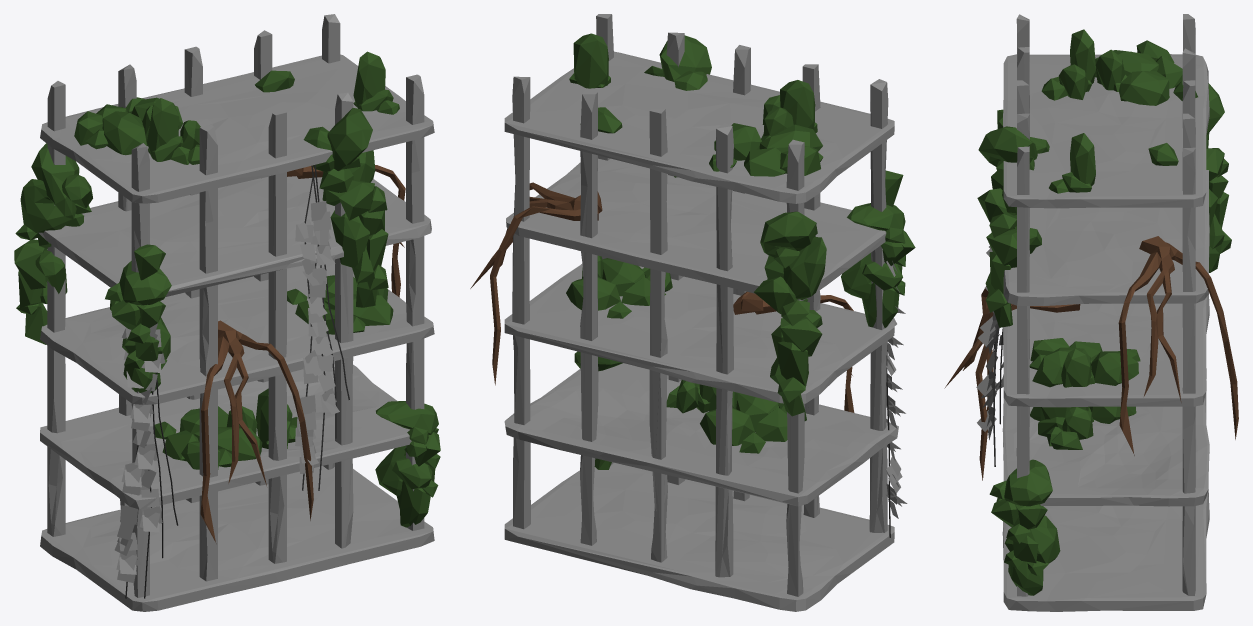
The model's file is SM_building_overgrown_03.fbx.
3 renders of one model, left to right at view 1: azimuth 30°, elevation 25°; view 2: azimuth 150°, elevation 25°; view 3: azimuth 270°, elevation 25°, orthographic.
Visible parts, largest first — view 1: Object14227; view 2: Object14227; view 3: Object14227.
Boxes of the visible parts, x1,y1,x2,y2 form: Object14227: (14, 14, 440, 611); Object14227: (470, 14, 915, 611); Object14227: (944, 14, 1238, 611).
Bounding box in the file's own units: 648 × 807 × 459.
